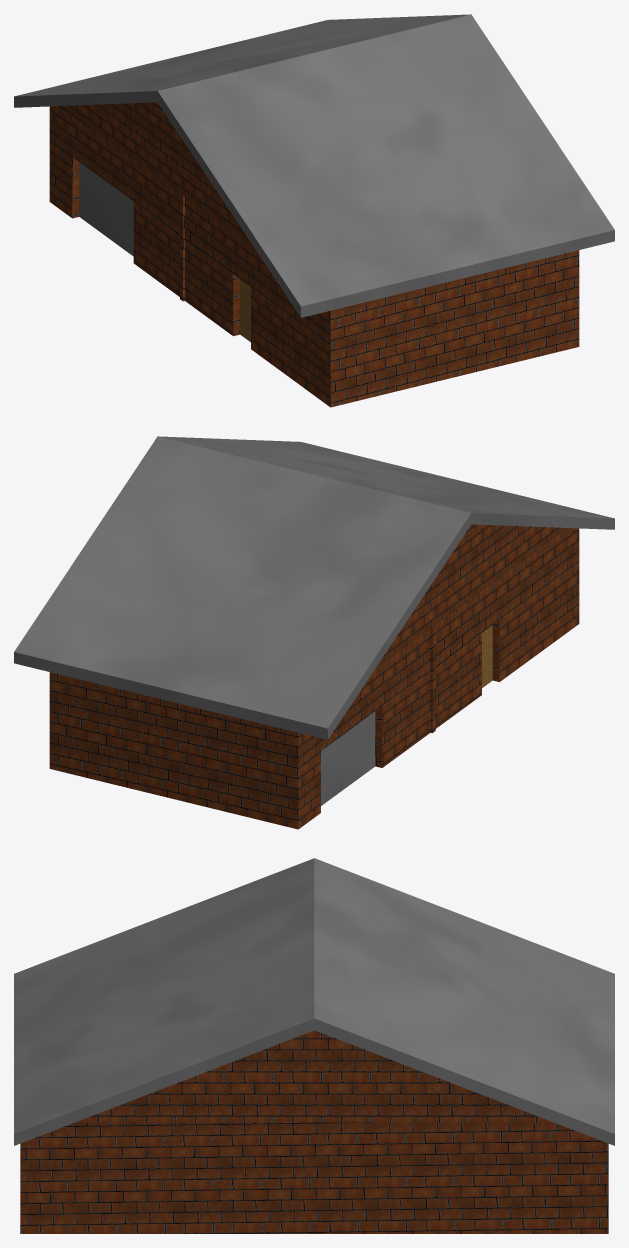
Rendered from Blocos 1.fbx.
3 views of the same model, one above another, from view 1: azimuth 30°, elevation 25°; view 2: azimuth 150°, elevation 25°; view 3: azimuth 270°, elevation 25° (orthographic). The views are drawn at different scales.
Parts seen in each view (by area): view 1: Casa01; view 2: Casa01; view 3: Casa01.
Part boxes in pixels (bbox=[...]): Casa01: bbox=[14, 14, 614, 407]; Casa01: bbox=[14, 436, 614, 829]; Casa01: bbox=[14, 858, 614, 1233].
Size of the model in its own units: 1301 by 878 by 2061.
